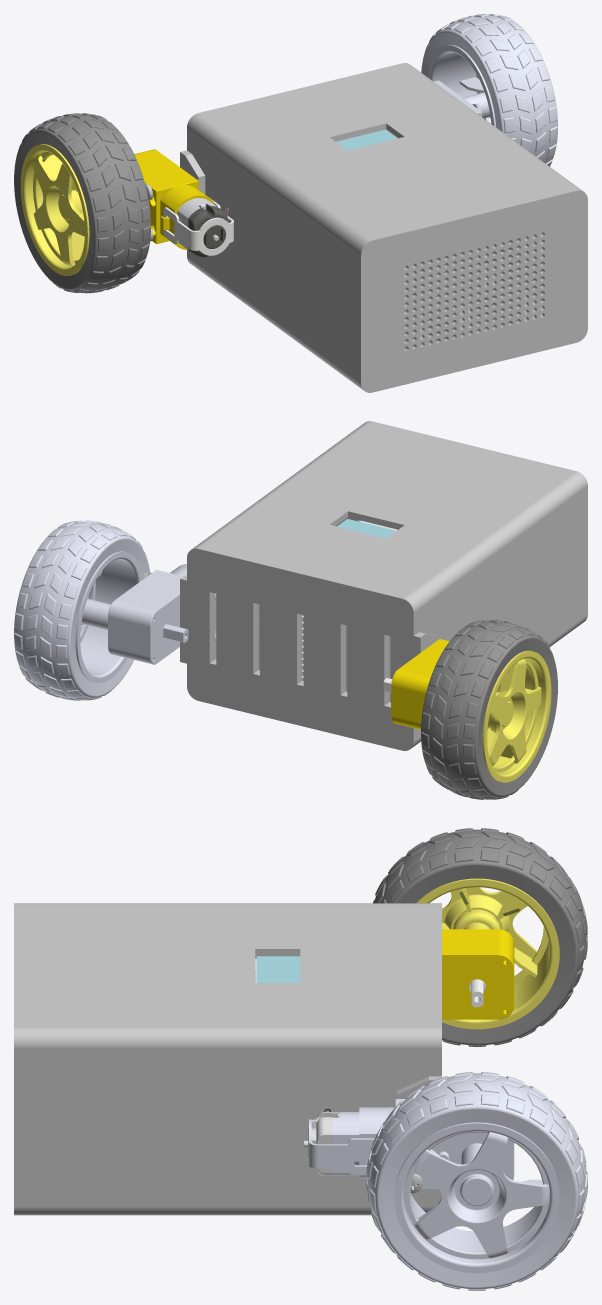
File: Self-Balancing-Robot.glb
3 views of the same model, one above another, from view 1: azimuth 30°, elevation 25°; view 2: azimuth 150°, elevation 25°; view 3: azimuth 270°, elevation 25° (orthographic). The views are drawn at different scales.
Visible parts, largest first — view 1: Body1.037, Body30.003, Body31.003, Imported1, Imported1.001, Imported2, Nody^Mini Gear DC Motor 6 V Yellow.STEP-1-solid1, Imported2.001, dc motor.stp.STEP-1-solid1, Body3.004, Belt^Mini Gear DC Motor 6 V Yellow.STEP-1-solid1, Body1.003 (+1 smaller); view 2: Body3.004, Body30.003, Body31.003, Imported1, Imported1.001, Imported2, Nody^Mini Gear DC Motor 6 V Yellow.STEP-1-solid1.001, Imported2.001, Nody^Mini Gear DC Motor 6 V Yellow.STEP-1-solid1, Body1.037, Body1.003, Body9.003 (+1 smaller); view 3: Body30.003, Body31.003, Imported1.001, Imported2.001, Imported1, Imported2, Nody^Mini Gear DC Motor 6 V Yellow.STEP-1-solid1, Nody^Mini Gear DC Motor 6 V Yellow.STEP-1-solid1.001, Body3.004, Body1.037, dc motor.stp.STEP-1-solid1.001, Belt^Mini Gear DC Motor 6 V Yellow.STEP-1-solid1.001 (+1 smaller).
Part boxes in pixels (left/top/right/bottom): Body1.037: left=358, top=188, right=587, bottom=392; Body30.003: left=272, top=125, right=579, bottom=387; Body31.003: left=192, top=67, right=494, bottom=325; Imported1: left=14, top=113, right=150, bottom=293; Imported1.001: left=421, top=14, right=557, bottom=166; Imported2: left=20, top=144, right=89, bottom=275; Nody^Mini Gear DC Motor 6 V Yellow.STEP-1-solid1: left=134, top=149, right=213, bottom=249; Imported2.001: left=428, top=44, right=495, bottom=126; dc motor.stp.STEP-1-solid1: left=177, top=198, right=230, bottom=257; Body3.004: left=187, top=63, right=413, bottom=266; Belt^Mini Gear DC Motor 6 V Yellow.STEP-1-solid1: left=163, top=197, right=233, bottom=255; Body1.003: left=336, top=130, right=396, bottom=150; Body3.004: left=187, top=544, right=418, bottom=750; Body30.003: left=277, top=423, right=585, bottom=646; Body31.003: left=197, top=486, right=499, bottom=743; Imported1: left=421, top=620, right=557, bottom=799; Imported1.001: left=14, top=520, right=149, bottom=700; Imported2: left=482, top=650, right=551, bottom=782; Nody^Mini Gear DC Motor 6 V Yellow.STEP-1-solid1.001: left=108, top=564, right=186, bottom=664; Imported2.001: left=75, top=551, right=143, bottom=683; Nody^Mini Gear DC Motor 6 V Yellow.STEP-1-solid1: left=391, top=639, right=450, bottom=729; Body1.037: left=364, top=421, right=587, bottom=622; Body1.003: left=337, top=519, right=396, bottom=538; Body9.003: left=180, top=575, right=186, bottom=663; Body30.003: left=20, top=903, right=231, bottom=1215; Body31.003: left=231, top=903, right=428, bottom=1215; Imported1.001: left=366, top=1072, right=587, bottom=1290; Imported2.001: left=394, top=1122, right=559, bottom=1273; Imported1: left=373, top=828, right=587, bottom=1046; Imported2: left=416, top=878, right=559, bottom=1029; Nody^Mini Gear DC Motor 6 V Yellow.STEP-1-solid1: left=442, top=929, right=514, bottom=1019; Nody^Mini Gear DC Motor 6 V Yellow.STEP-1-solid1.001: left=359, top=1099, right=514, bottom=1189; Body3.004: left=429, top=903, right=441, bottom=1210; Body1.037: left=14, top=903, right=20, bottom=1215; dc motor.stp.STEP-1-solid1.001: left=303, top=1109, right=359, bottom=1175; Belt^Mini Gear DC Motor 6 V Yellow.STEP-1-solid1.001: left=309, top=1119, right=374, bottom=1174.
Size of the model in its own units: 0.2043 by 0.0712 by 0.1784.
